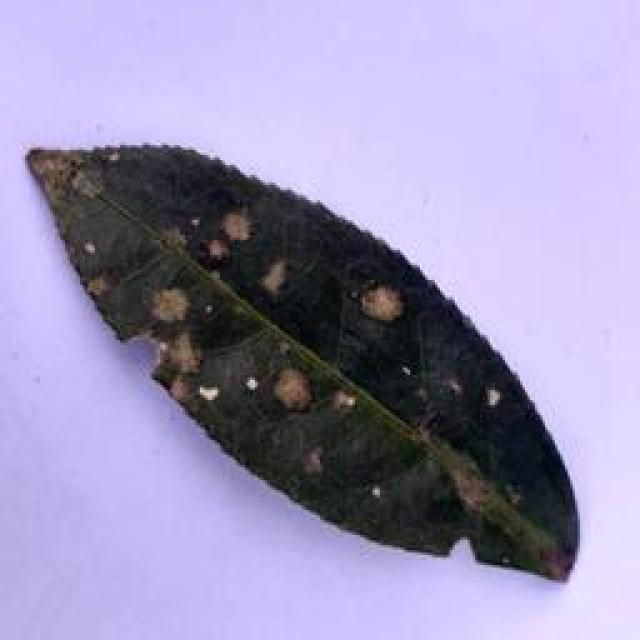Algal Leaf Spot: (16, 139, 582, 591)
